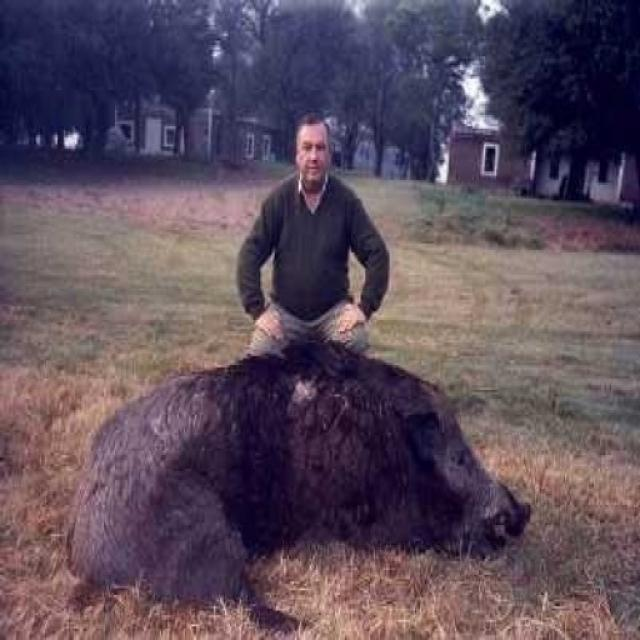pig: (61, 330, 627, 612)
